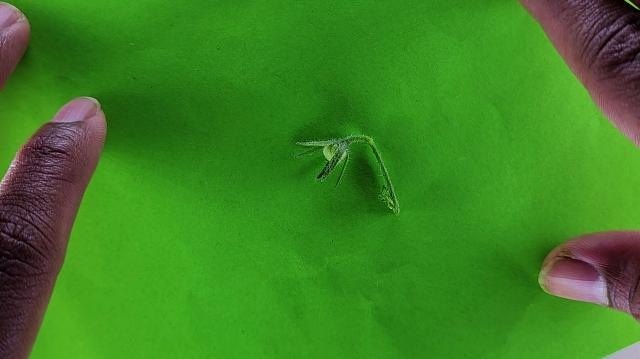Fruit Bud: (293, 136, 352, 182)
